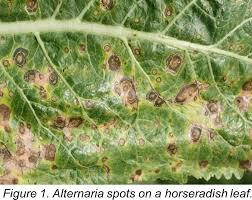Bok-Choy-Diseased: (0, 0, 252, 175)
